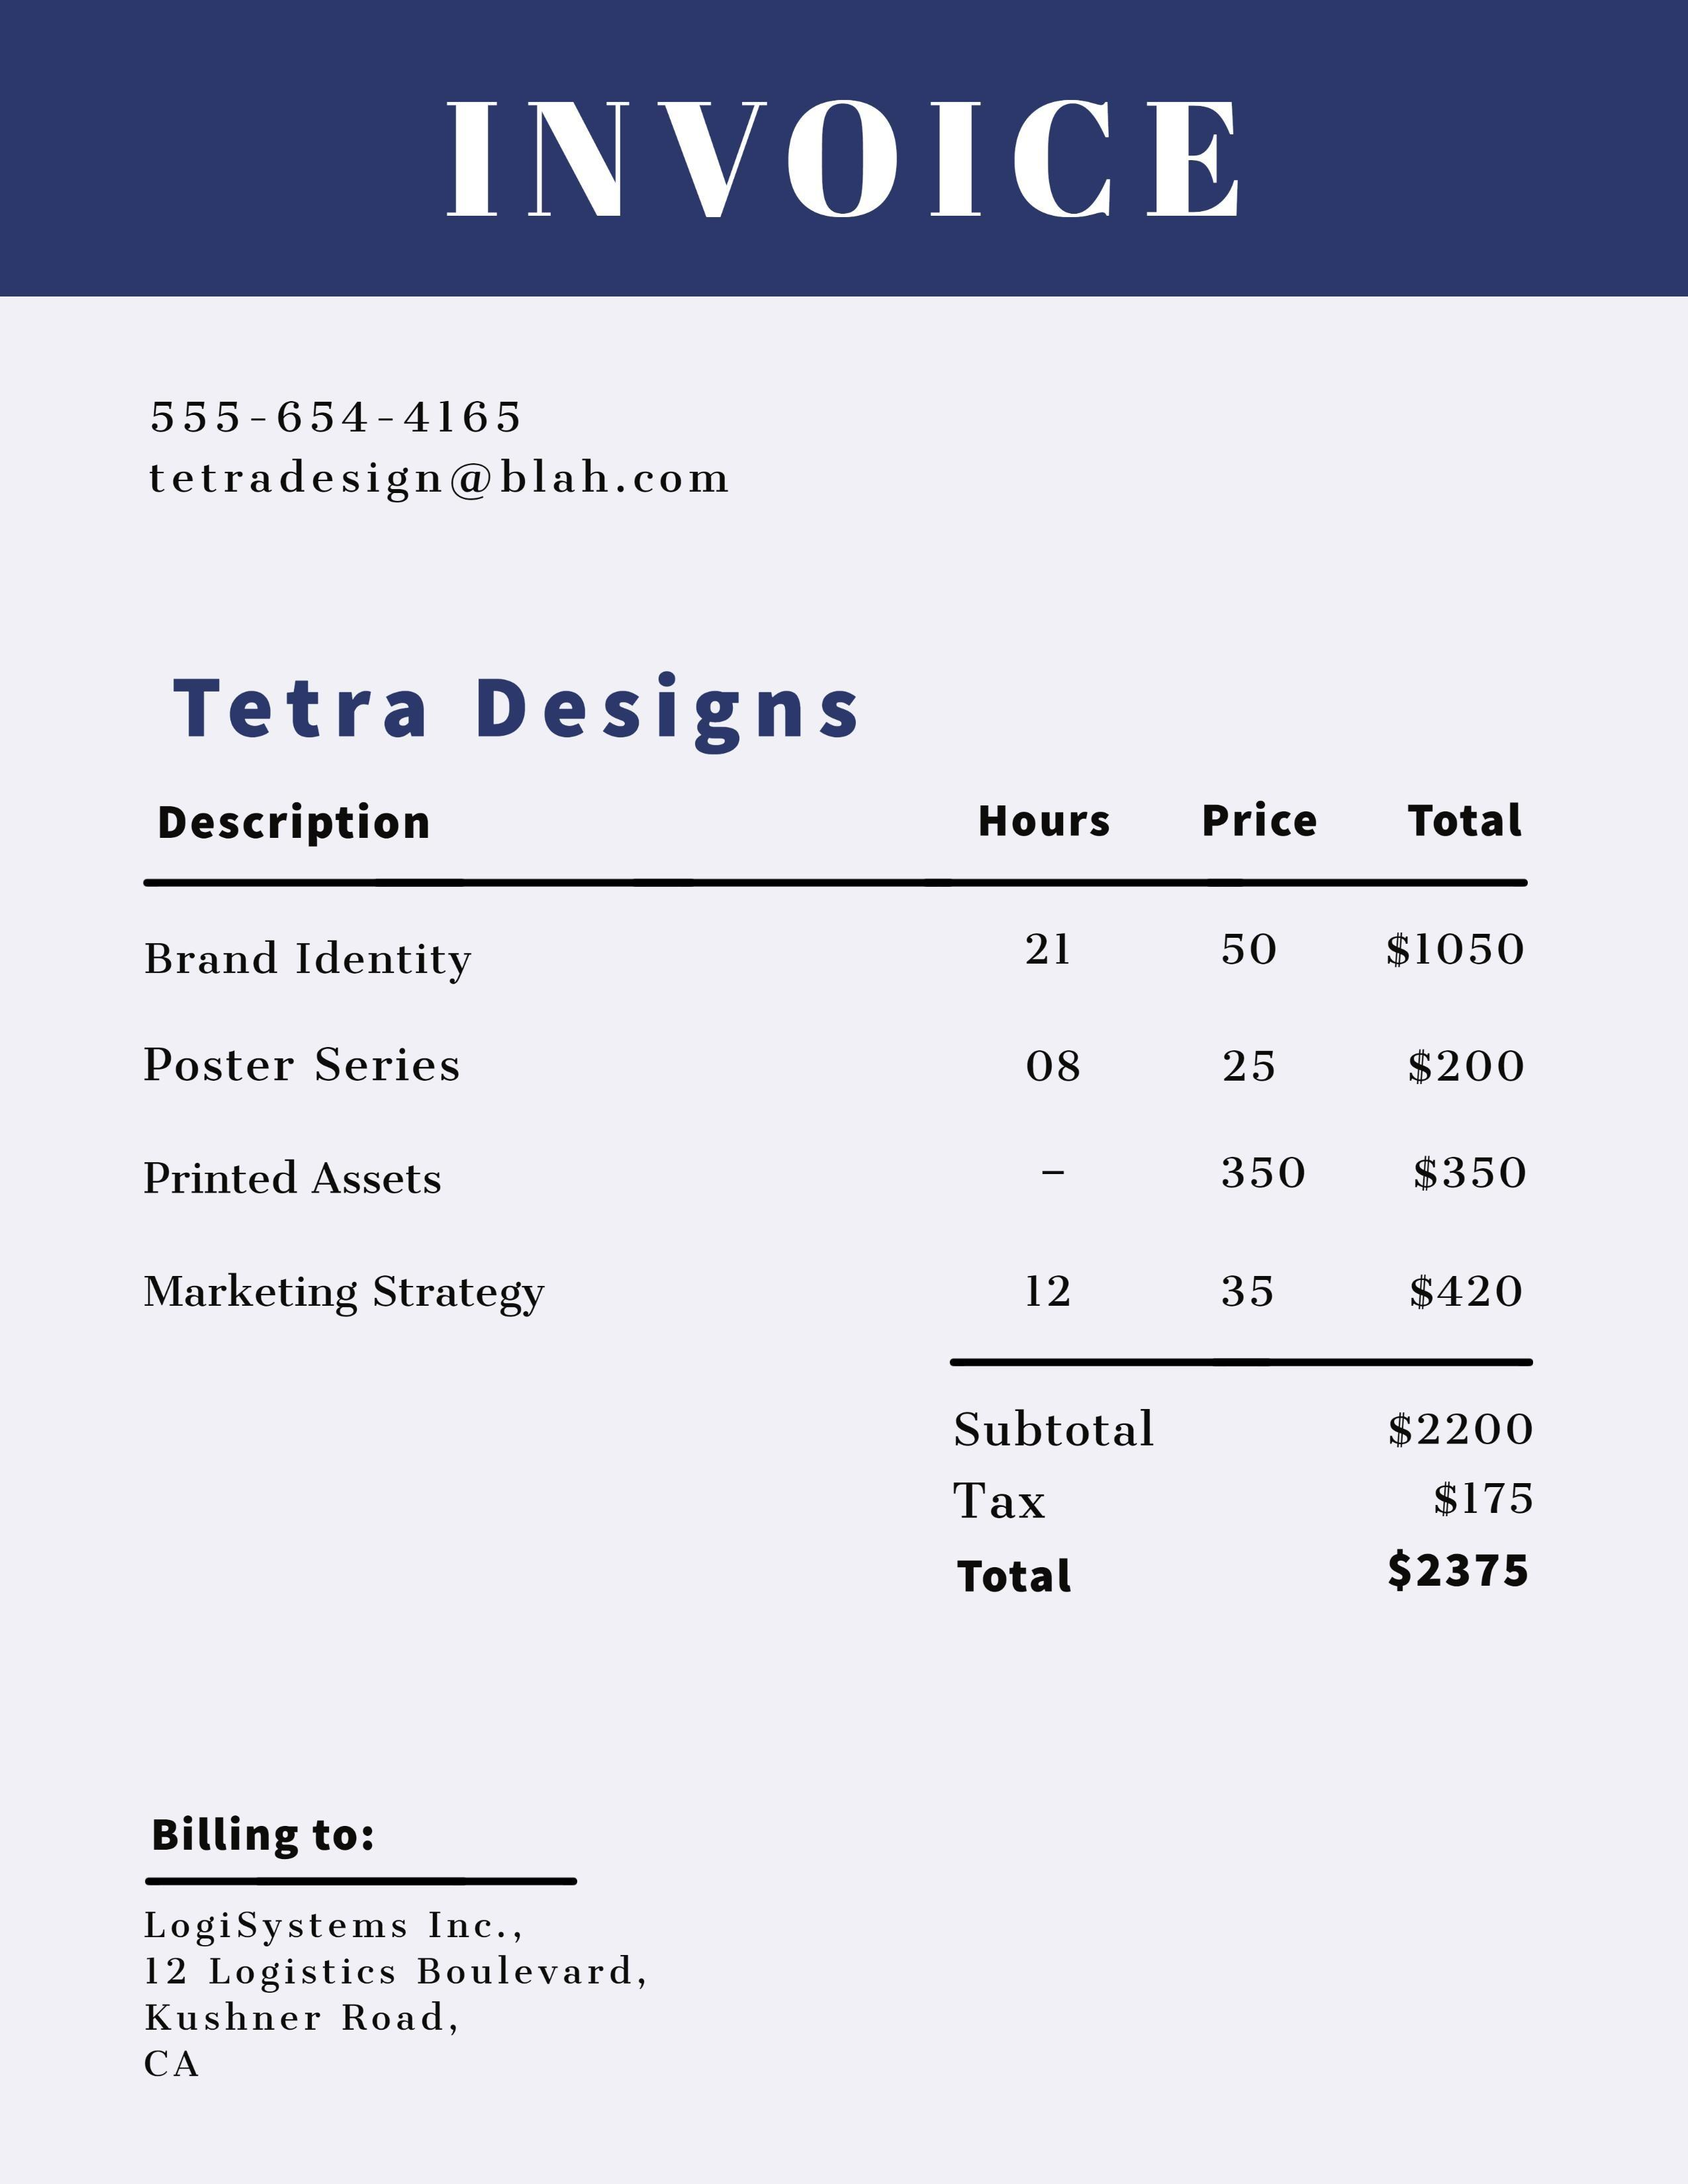ROI: (140, 782, 1553, 1340), (129, 1815, 677, 2079), (933, 1400, 1564, 1629), (138, 385, 748, 519)
